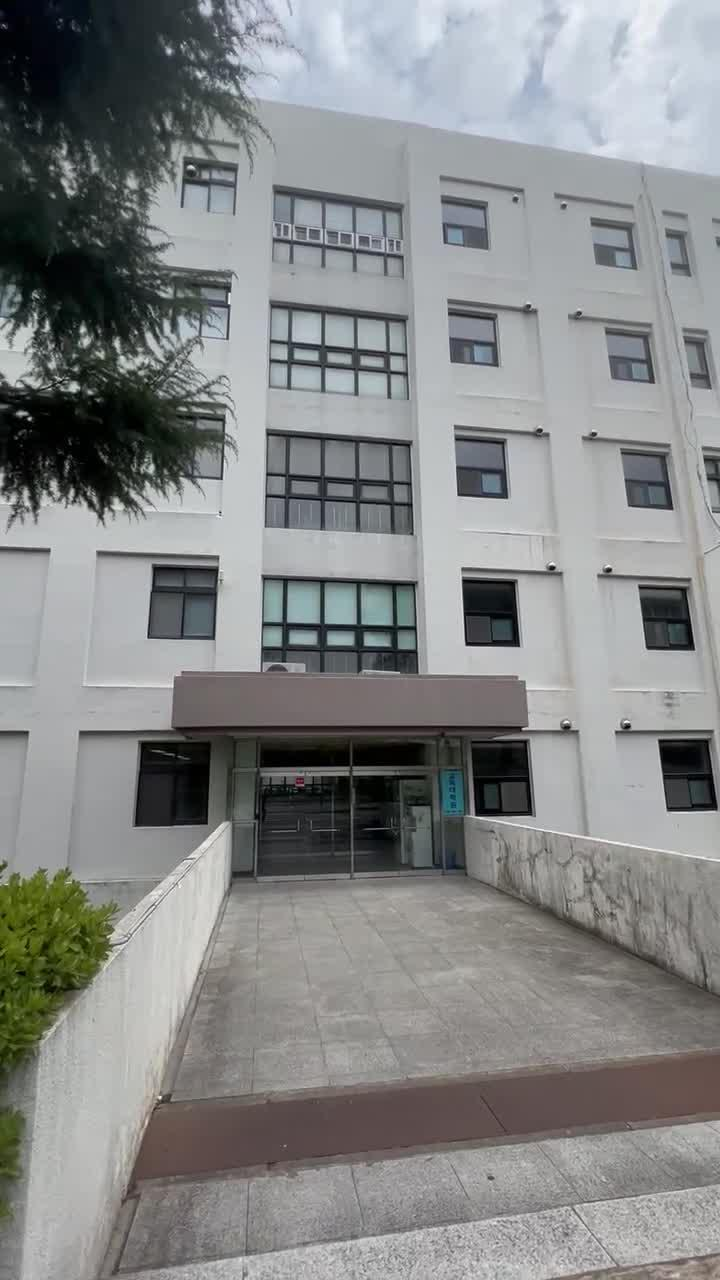building: (200, 140, 720, 854)
